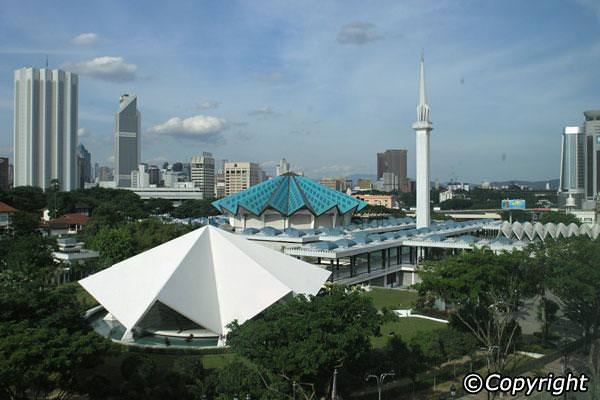Mosque: (230, 164, 347, 225)
